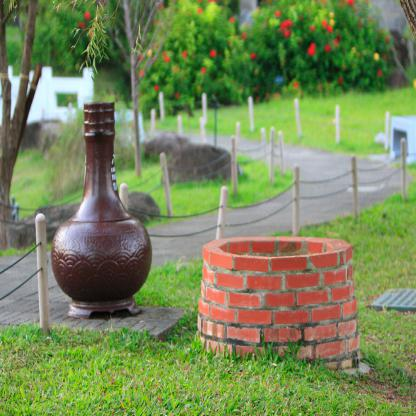vase: (49, 99, 153, 319)
